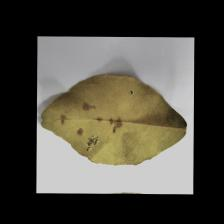black spot: (50, 92, 138, 168)
